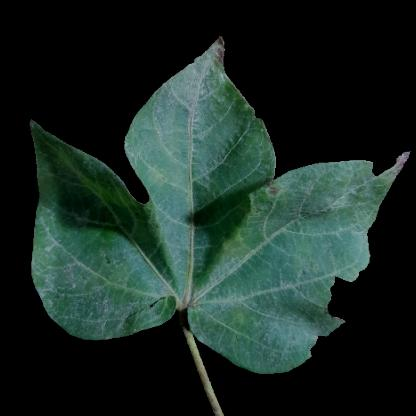healthy: (48, 230, 256, 298), (161, 97, 251, 233), (261, 198, 317, 348), (39, 234, 100, 306)
